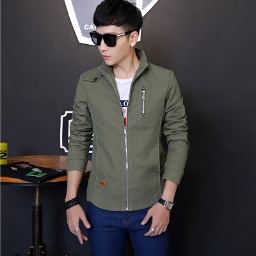face: (89, 1, 144, 67)
